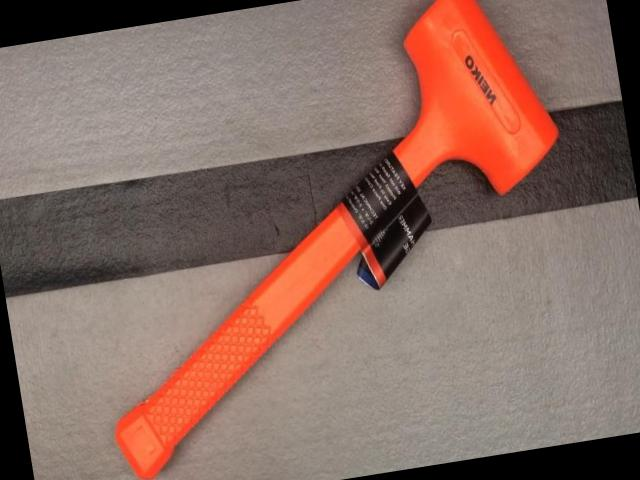hammer: (49, 0, 601, 480)
